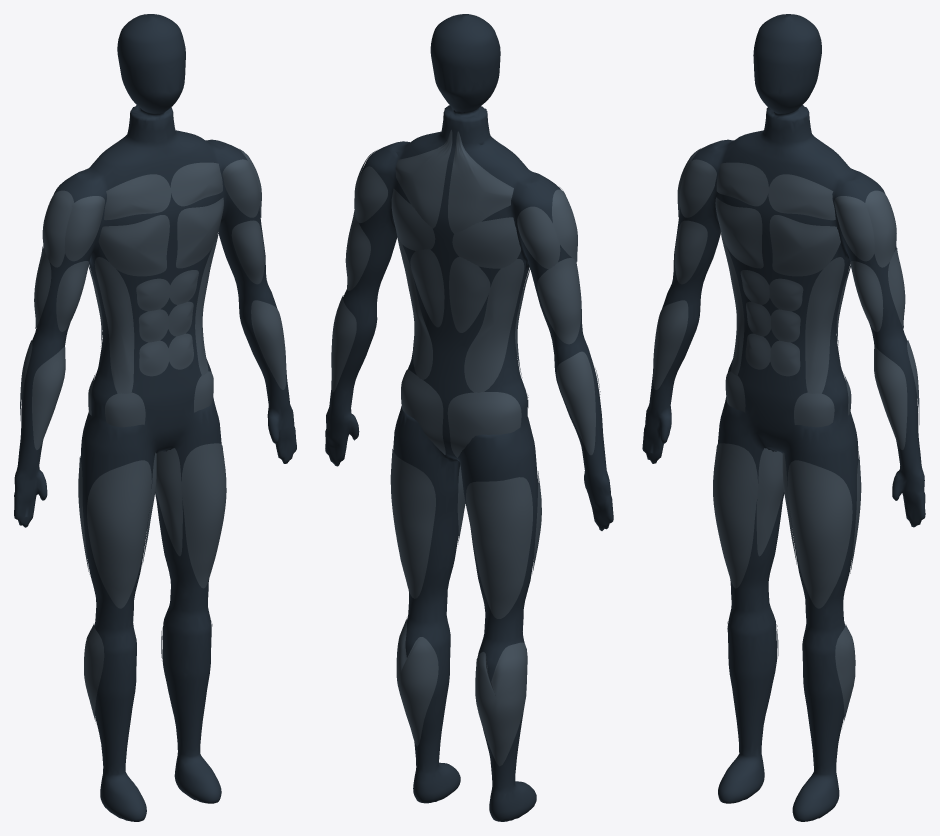
The model's file is human_3d.glb.
3 renders of one model, left to right at view 1: azimuth 30°, elevation 25°; view 2: azimuth 150°, elevation 25°; view 3: azimuth 330°, elevation 25°, orthographic.
Parts seen in each view (by area): view 1: neutral_body, muscle_quads, muscle_chest, muscle_abs, muscle_forearms, muscle_obliques, muscle_upper_chest, muscle_front_delts, muscle_biceps, muscle_adductors, muscle_hip_flexors, muscle_side_delts (+2 smaller); view 2: neutral_body, muscle_hamstrings, muscle_calves, muscle_traps, muscle_lats, muscle_glutes, muscle_upper_back, muscle_mid_back, muscle_forearms, muscle_triceps, muscle_rear_delts, muscle_side_delts; view 3: neutral_body, muscle_quads, muscle_chest, muscle_abs, muscle_forearms, muscle_obliques, muscle_upper_chest, muscle_front_delts, muscle_biceps, muscle_adductors, muscle_hip_flexors, muscle_side_delts (+2 smaller).
Part boxes in pixels (x1,y1,x2,y2): neutral_body: (14,14,296,821); muscle_quads: (87,443,226,608); muscle_chest: (98,197,223,276); muscle_abs: (136,270,198,376); muscle_forearms: (20,300,286,449); muscle_obliques: (94,230,219,393); muscle_upper_chest: (104,162,222,220); muscle_front_delts: (64,159,259,261); muscle_biceps: (56,220,264,331); muscle_adductors: (142,448,182,564); muscle_hip_flexors: (105,371,213,427); muscle_side_delts: (42,149,261,267); neutral_body: (325,14,613,821); muscle_hamstrings: (390,449,532,618); muscle_calves: (396,619,527,766); muscle_traps: (395,129,513,233); muscle_lats: (396,232,524,392); muscle_glutes: (401,369,521,457); muscle_upper_back: (391,188,520,268); muscle_mid_back: (410,249,490,332); muscle_forearms: (331,295,600,455); muscle_triceps: (345,210,581,344); muscle_rear_delts: (354,166,560,268); muscle_side_delts: (354,150,577,261); neutral_body: (642,14,925,821); muscle_quads: (713,443,852,608); muscle_chest: (715,197,840,276); muscle_abs: (740,270,803,376); muscle_forearms: (653,300,919,449); muscle_obliques: (720,230,844,393); muscle_upper_chest: (716,162,835,220); muscle_front_delts: (679,159,874,261); muscle_biceps: (674,220,883,331); muscle_adductors: (756,448,796,564); muscle_hip_flexors: (725,371,834,427); muscle_side_delts: (677,148,896,267).
Bounding box in the file's own units: 0.683 × 1.8 × 0.2032.
